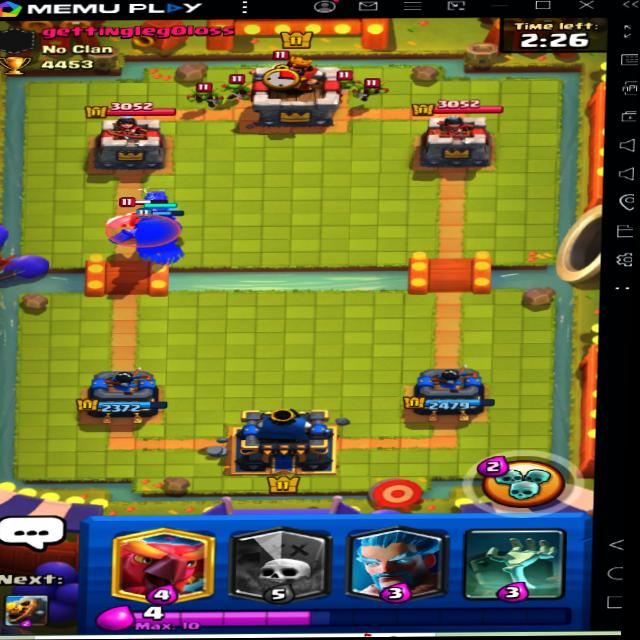goblin: (218, 71, 257, 103), (188, 84, 221, 113), (363, 76, 394, 102), (338, 72, 363, 93)
ice-golem: (112, 188, 182, 235)
